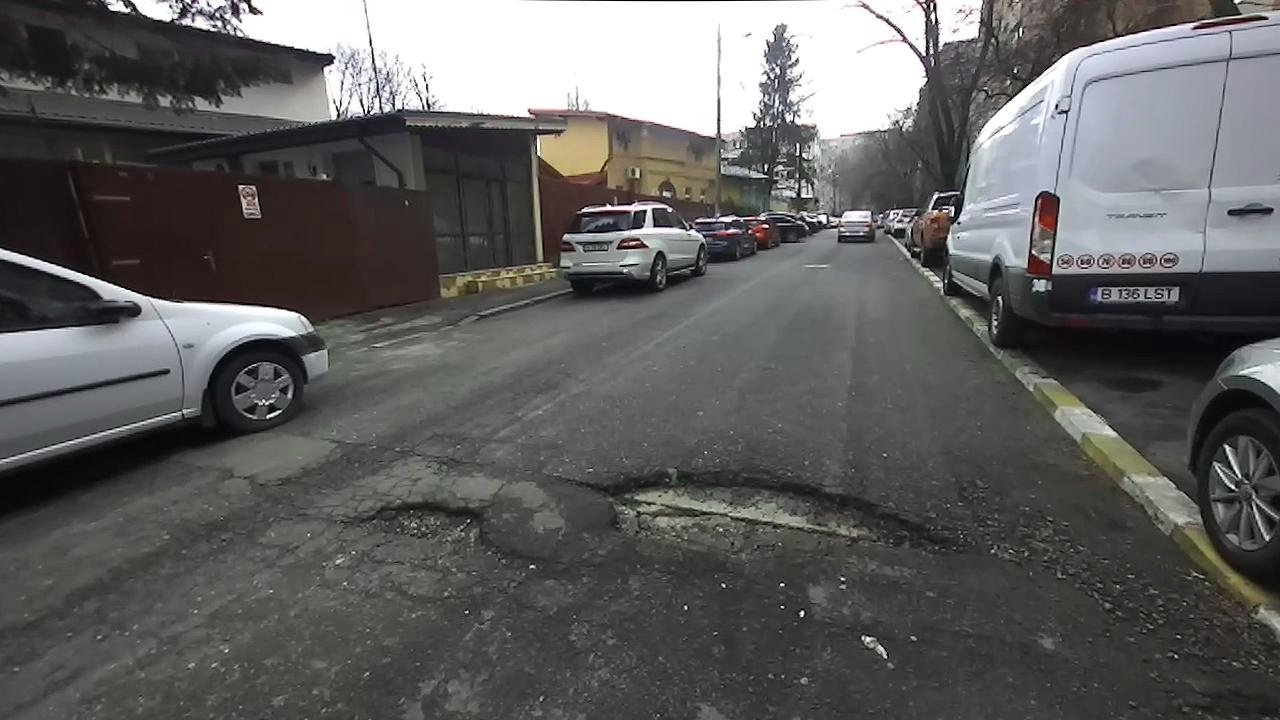pothole: (582, 465, 982, 577), (333, 492, 516, 559)
